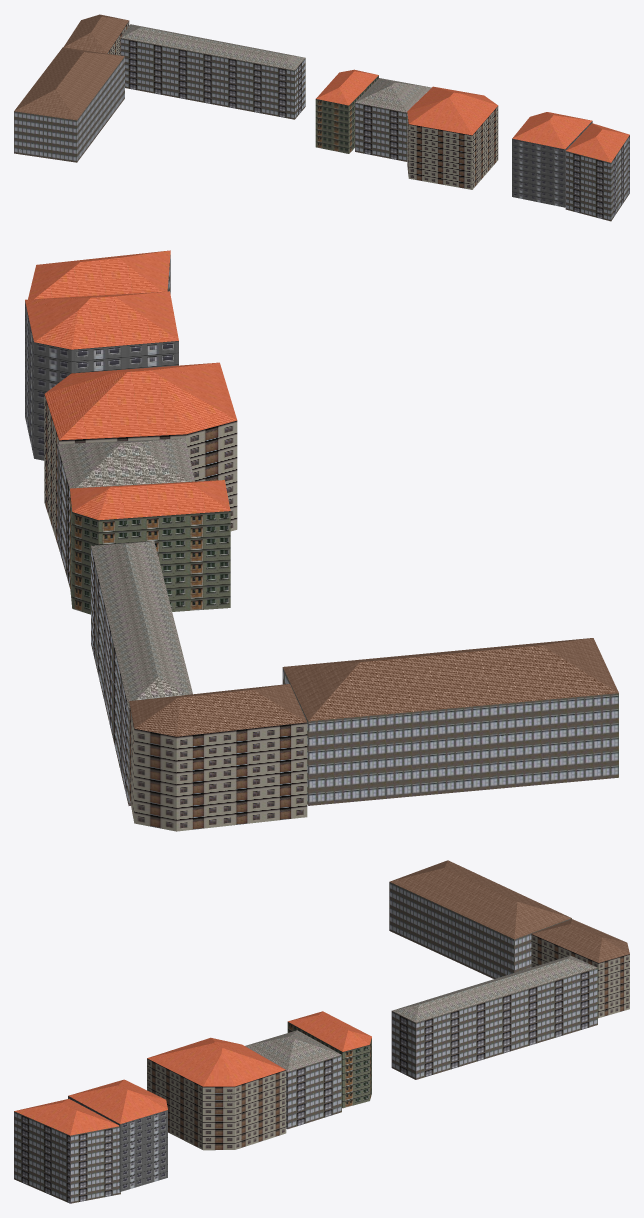
The model's file is GrupoEdificios4.FBX.
The picture shows the model from 3 angles, top to bottom: view 1: azimuth 30°, elevation 25°; view 2: azimuth 150°, elevation 25°; view 3: azimuth 270°, elevation 25°; orthographic projection. The views are drawn at different scales.
Visible parts, largest first — view 1: Model4, Model30, Model31, Model57, Model53, Model55, Model50, Model7; view 2: Model30, Model7, Model31, Model50, Model4, Model53, Model55, Model57; view 3: Model4, Model30, Model31, Model57, Model53, Model55, Model7, Model50.
Part boxes in pixels (x1,y1,x2,y2): Model4: (120, 24, 305, 119); Model30: (14, 47, 124, 162); Model31: (407, 86, 498, 189); Model57: (565, 123, 629, 221); Model53: (512, 112, 592, 207); Model55: (355, 78, 431, 161); Model50: (315, 69, 378, 153); Model7: (63, 14, 129, 55); Model30: (282, 638, 618, 805); Model7: (129, 684, 307, 831); Model31: (44, 362, 237, 547); Model50: (70, 480, 230, 614); Model4: (91, 541, 192, 805); Model53: (25, 291, 178, 460); Model55: (57, 438, 194, 588); Model57: (28, 250, 170, 299); Model4: (391, 955, 597, 1079); Model30: (389, 860, 571, 978); Model31: (147, 1037, 286, 1150); Model57: (14, 1099, 120, 1203); Model53: (68, 1079, 167, 1191); Model55: (245, 1030, 341, 1129); Model7: (531, 919, 629, 1018); Model50: (287, 1011, 371, 1108).
Bounding box in the file's own units: 23256 × 4265 × 23506.
